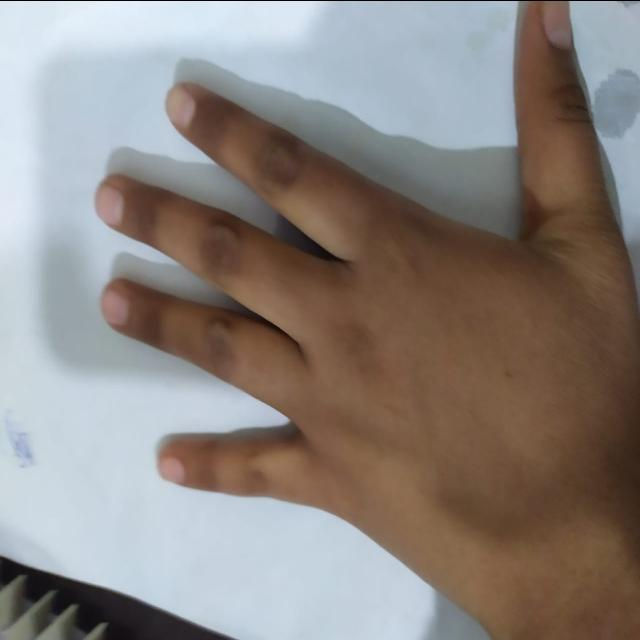Nail: (541, 2, 572, 48), (101, 282, 130, 325), (168, 84, 195, 129), (95, 185, 125, 225), (158, 453, 185, 483)
